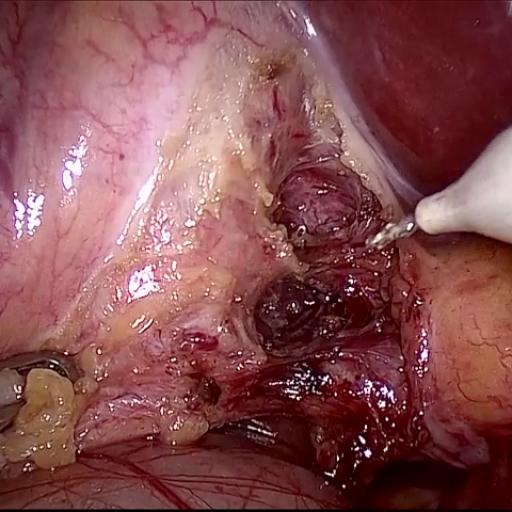Grasper: (0, 334, 89, 436)
Hook: (328, 100, 512, 281)
